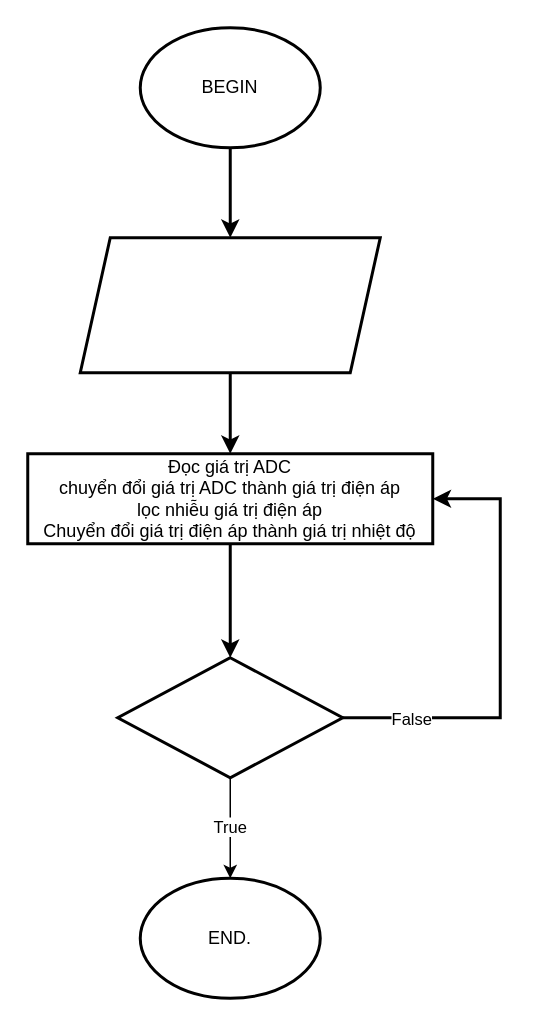
The diagram is 539 pixels wide and 1025 high, and some of its shapes have lost their labels. Here are the shapes that lost their labels. From the top down, the centre of each, then its label:
point (229, 305): Khởi Động màn hình Khai báo chân IO Cài đặt độ phân giải ADC Giới hạn Vin.
point (230, 717): Giá trị định thời lớn hơn 400mili giây
